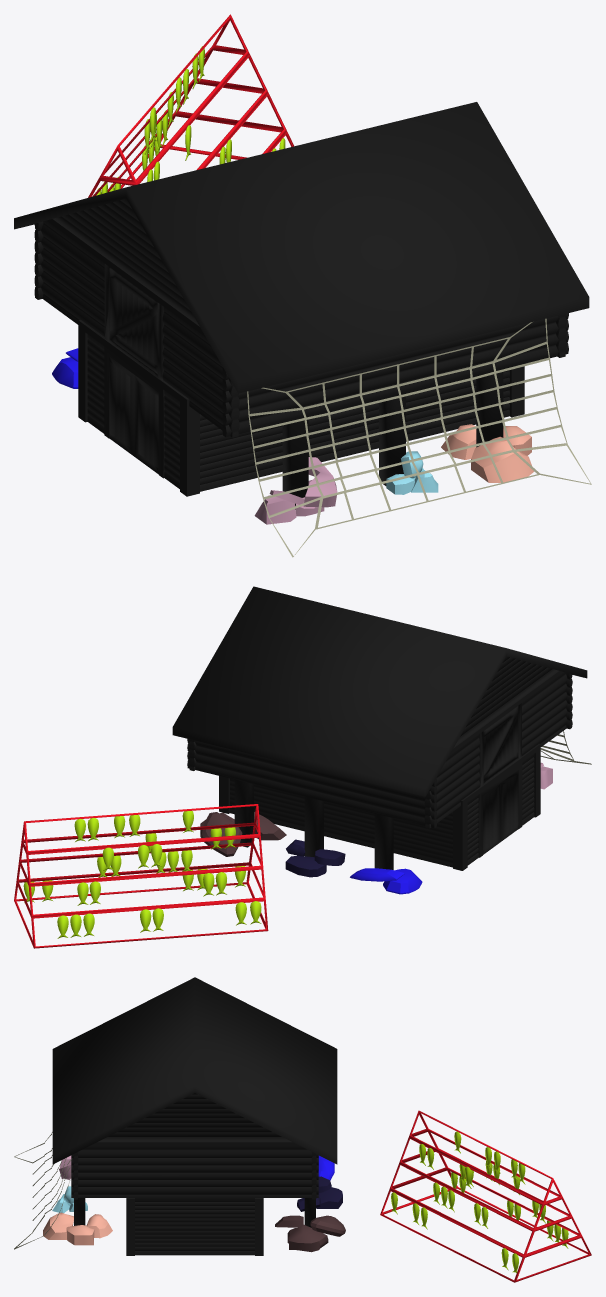
The model's file is Naust (1).fbx.
The picture shows the model from 3 angles, top to bottom: view 1: azimuth 30°, elevation 25°; view 2: azimuth 150°, elevation 25°; view 3: azimuth 270°, elevation 25°; orthographic projection. The views are drawn at different scales.
Parts seen in each view (by area): view 1: Naust, Fishing_Net, Fish_Rack, Stones_Right_Pillar_3, Fish, Stones_Right_Pillar_1, Stones_Right_Pillar_2, Srones_Left_Pillar_1; view 2: Naust, Fish_Rack, Fish, Stones_Left_Pillar_2, Stones_Left_Pillar_3, Srones_Left_Pillar_1; view 3: Naust, Fish_Rack, Fish, Stones_Left_Pillar_3, Stones_Right_Pillar_3, Stones_Left_Pillar_2, Fishing_Net.
Part boxes in pixels (left/top/right/bottom): Naust: left=14, top=102, right=589, bottom=509; Fishing_Net: left=247, top=318, right=591, bottom=557; Fish_Rack: left=88, top=14, right=293, bottom=197; Stones_Right_Pillar_3: left=441, top=424, right=533, bottom=482; Fish: left=96, top=46, right=285, bottom=195; Stones_Right_Pillar_1: left=254, top=457, right=337, bottom=524; Stones_Right_Pillar_2: left=386, top=451, right=438, bottom=494; Srones_Left_Pillar_1: left=52, top=348, right=78, bottom=388; Naust: left=172, top=586, right=587, bottom=870; Fish_Rack: left=14, top=804, right=268, bottom=948; Fish: left=23, top=811, right=261, bottom=938; Stones_Left_Pillar_2: left=285, top=839, right=345, bottom=877; Stones_Left_Pillar_3: left=200, top=812, right=286, bottom=856; Srones_Left_Pillar_1: left=350, top=868, right=422, bottom=894; Naust: left=52, top=977, right=337, bottom=1255; Fish_Rack: left=380, top=1110, right=591, bottom=1282; Fish: left=391, top=1131, right=568, bottom=1275; Stones_Left_Pillar_3: left=275, top=1215, right=345, bottom=1252; Stones_Right_Pillar_3: left=43, top=1212, right=112, bottom=1245; Stones_Left_Pillar_2: left=297, top=1176, right=342, bottom=1211; Fishing_Net: left=14, top=1132, right=71, bottom=1249.
Size of the model in its own units: 90.72 by 54.7 by 166.
